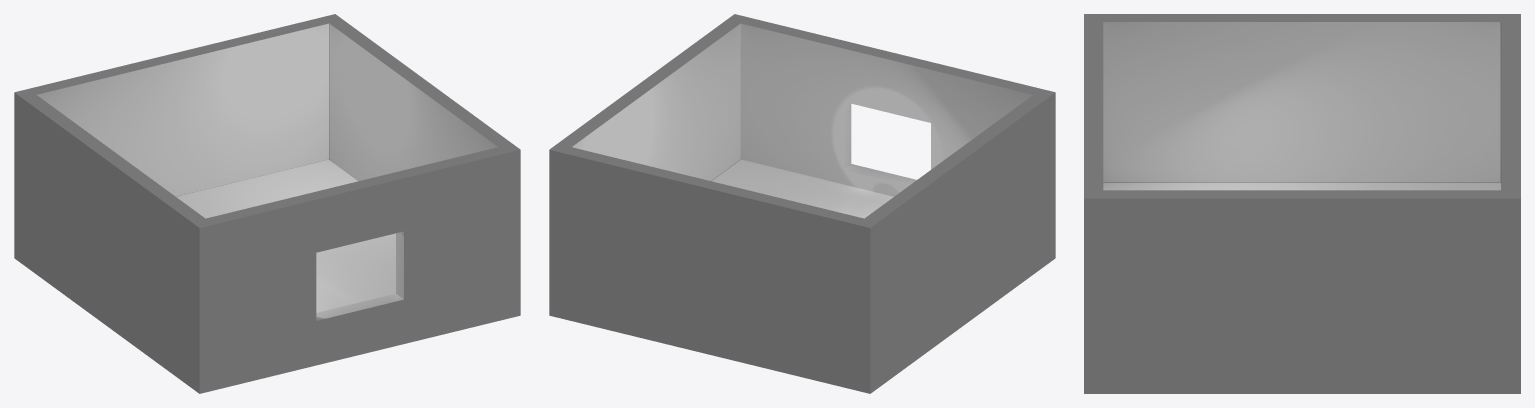
3 views of the same model, side by side, from view 1: azimuth 30°, elevation 25°; view 2: azimuth 150°, elevation 25°; view 3: azimuth 270°, elevation 25° (orthographic). The views are drawn at different scales.
Visible parts, largest first — view 1: ground_0; view 2: ground_0; view 3: ground_0.
Part boxes in pixels (box(x1,y1,x2,y2)): ground_0: box(14, 14, 520, 393); ground_0: box(549, 14, 1055, 393); ground_0: box(1084, 14, 1520, 393).
Size of the model in its own units: 15.07 by 7.44 by 15.07.
Materials: 29 (20 with a texture image).
